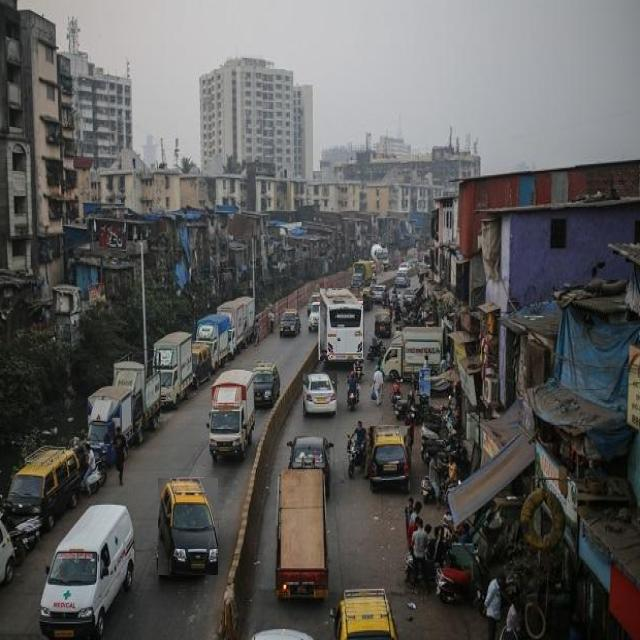bus: (320, 289, 362, 361)
car: (6, 448, 80, 529), (158, 478, 218, 575), (288, 436, 334, 495), (370, 426, 410, 490), (303, 373, 336, 415)
emergency: (40, 506, 135, 638)
truck: (208, 371, 255, 460), (154, 331, 192, 408)
